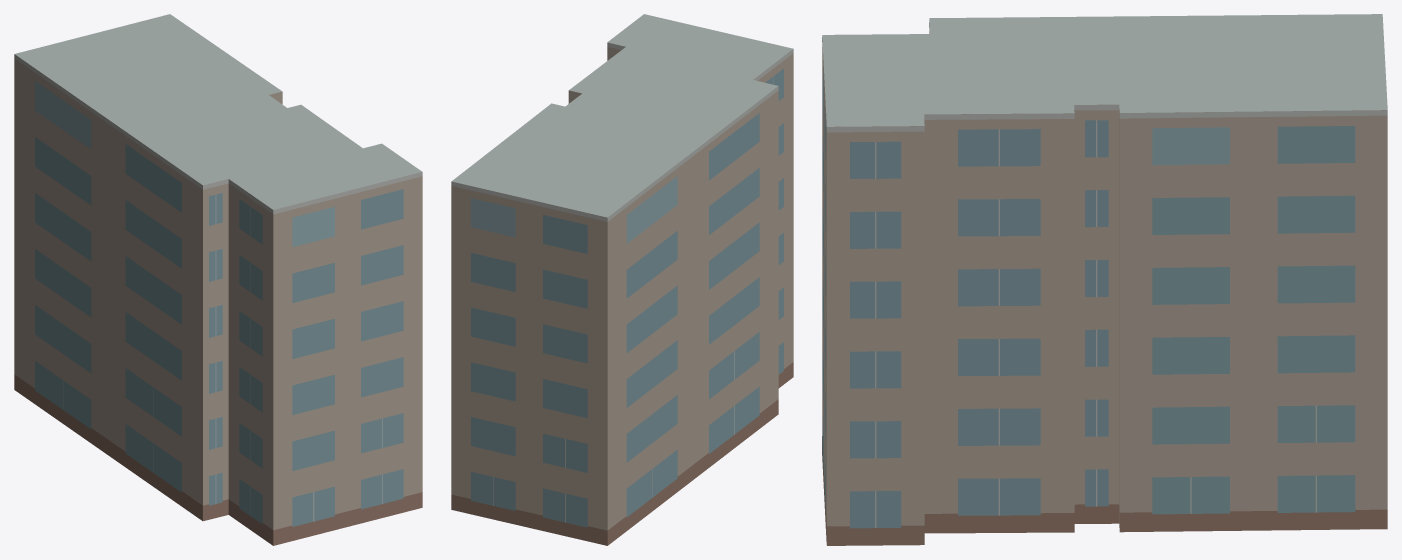
The model's file is survey-upis-32916959.glb.
3 renders of one model, left to right at view 1: azimuth 30°, elevation 25°; view 2: azimuth 150°, elevation 25°; view 3: azimuth 270°, elevation 25°, orthographic. The views are drawn at different scales.
Visible parts, largest first — view 1: survey-upis-32916959.tmp; view 2: survey-upis-32916959.tmp; view 3: survey-upis-32916959.tmp.
Boxes of the visible parts, bbox=[...] form: survey-upis-32916959.tmp: bbox=[14, 14, 422, 545]; survey-upis-32916959.tmp: bbox=[451, 14, 793, 545]; survey-upis-32916959.tmp: bbox=[822, 14, 1387, 545].
Size of the model in its own units: 10.7 by 18.5 by 22.64.
